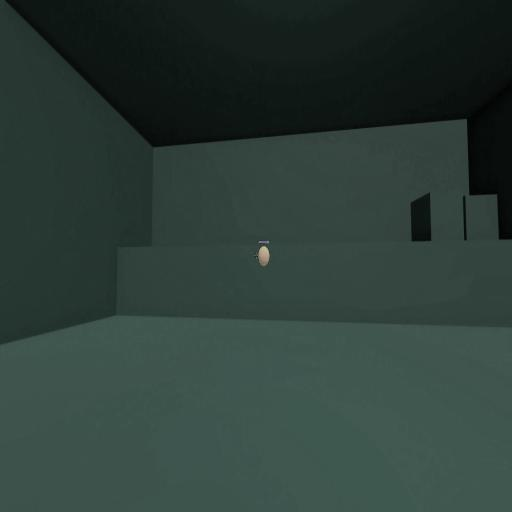Crosshair: (254, 252, 258, 260)
Target: (258, 244, 270, 267)
